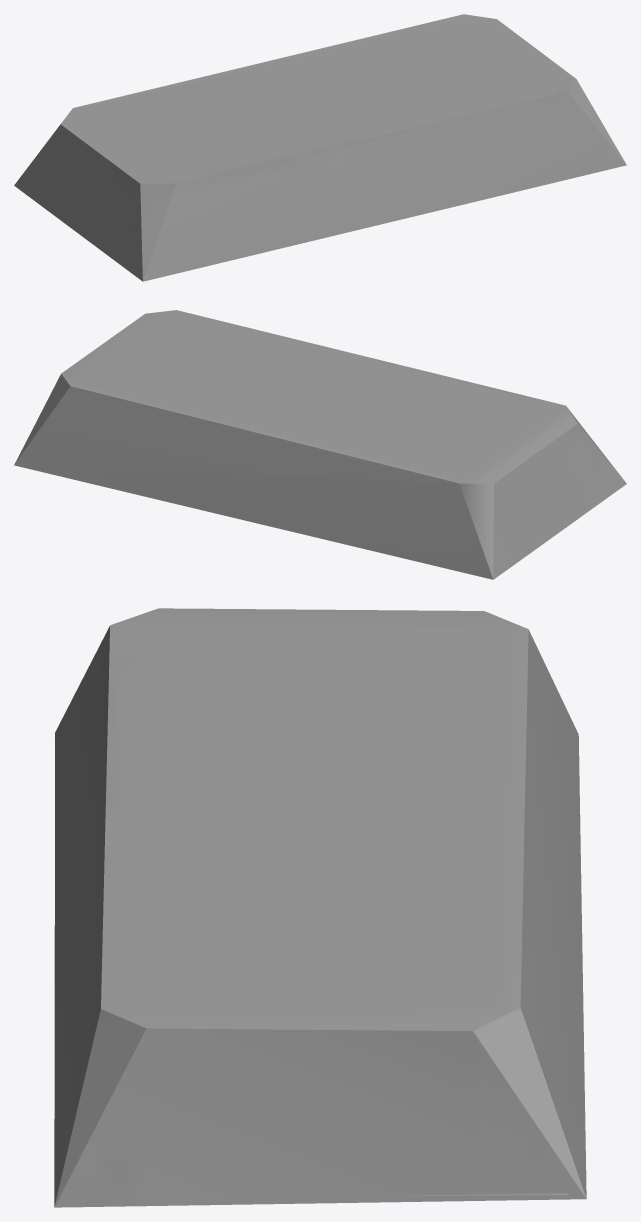
The model's file is res.material_refined.glb.
3 views of the same model, one above another, from view 1: azimuth 30°, elevation 25°; view 2: azimuth 150°, elevation 25°; view 3: azimuth 270°, elevation 25° (orthographic). The views are drawn at different scales.
Parts seen in each view (by area): view 1: body; view 2: body; view 3: body.
Boxes of the visible parts, <box> form: body: <box>14,14,626,281</box>; body: <box>14,310,626,579</box>; body: <box>54,608,586,1207</box>.
Size of the model in its own units: 0.3994 by 0.0615 by 0.1903.
1 material, 1 textured.
